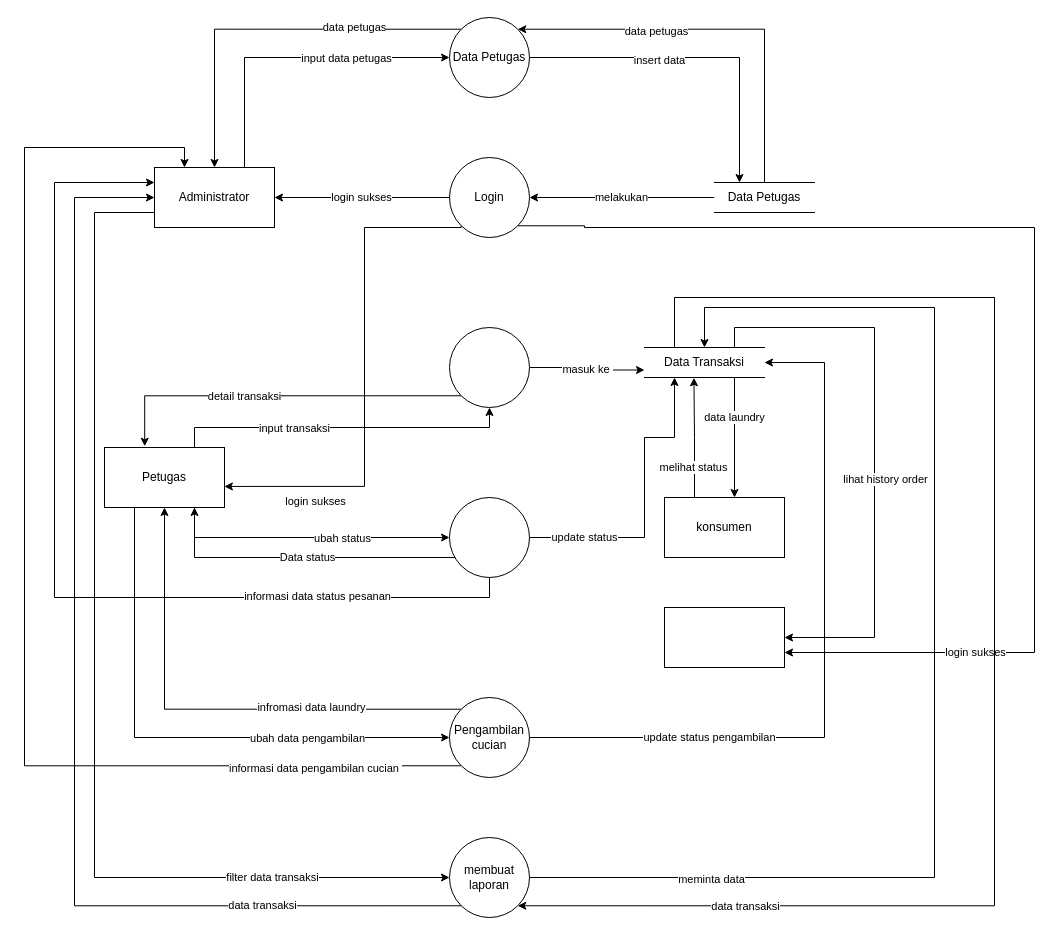
The diagram is 1060 pixels wide and 935 high, and some of its shapes have lost their labels. The shapes that lost their labels are listed below. From the top down, each one's centre as x and y in pixels, then its label:
the point at 489,367: Transaksi masuk
the point at 489,537: Perubahan status pesanan
the point at 724,637: Pimpinan
